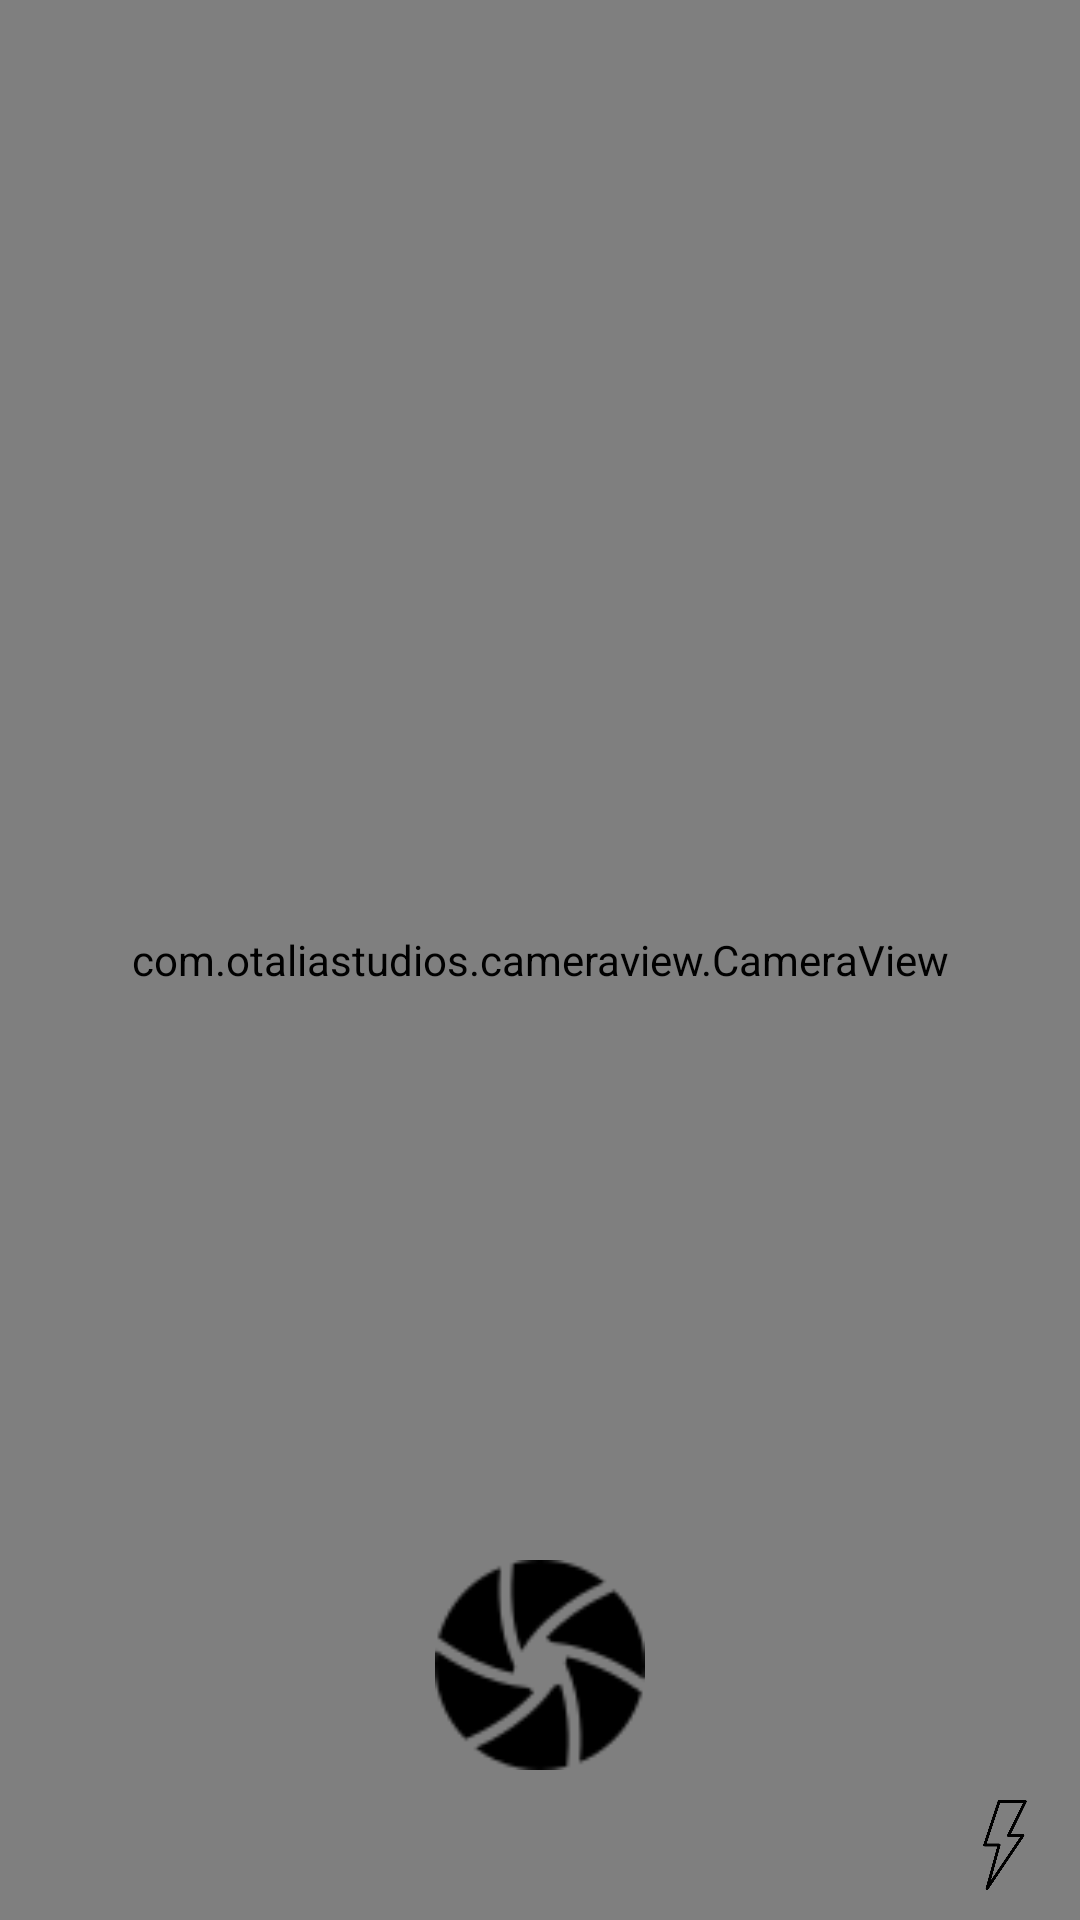

Locate icon controls on the screen. Image size 1080x1920, boxes as (x1,y1,x2,y2).
aperture: (435,1560,645,1770)
flash: (983,1800,1027,1890)
